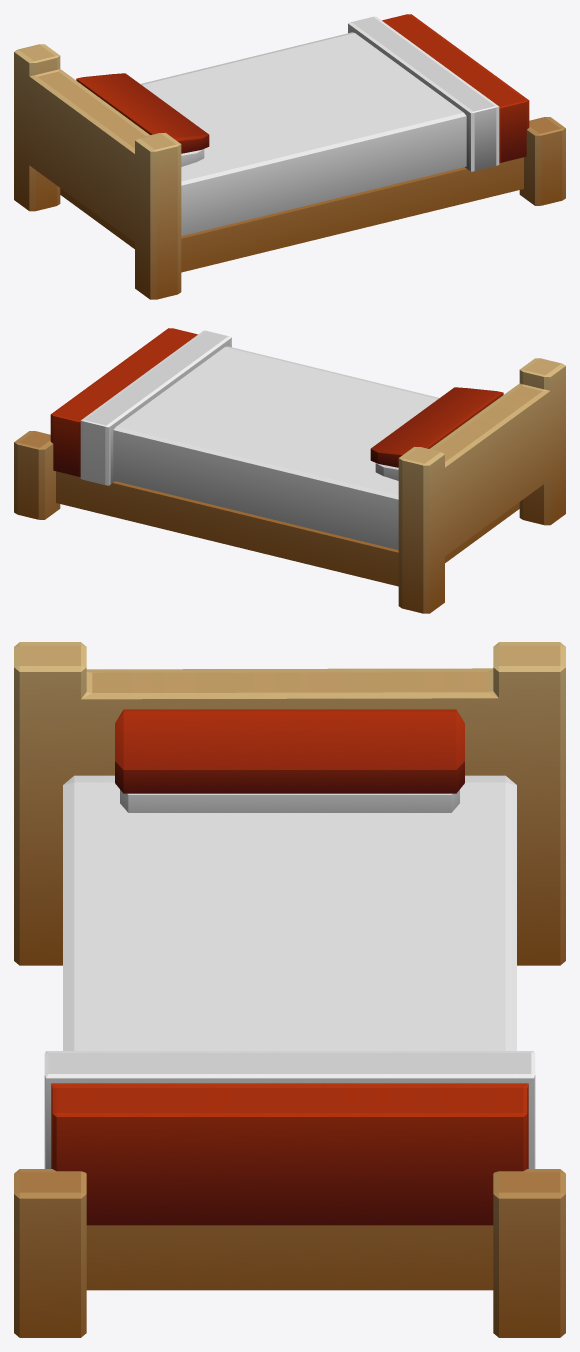
File: CoverUp.fbx
3 views of the same model, one above another, from view 1: azimuth 30°, elevation 25°; view 2: azimuth 150°, elevation 25°; view 3: azimuth 270°, elevation 25° (orthographic). The views are drawn at different scales.
Visible parts, largest first — view 1: BedMattress, BedPosts, BedFrame, BedCover, BedPillow1; view 2: BedMattress, BedPosts, BedFrame, BedCover, BedPillow1; view 3: BedMattress, BedPosts, BedCover, BedPillow1, BedFrame, BedPillow2.
Boxes of the visible parts, left/top/right/bottom form: BedMattress: left=140, top=32, right=466, bottom=235; BedPosts: left=14, top=44, right=565, bottom=299; BedFrame: left=60, top=157, right=523, bottom=272; BedCover: left=348, top=14, right=529, bottom=171; BedPillow1: left=76, top=73, right=209, bottom=153; BedMattress: left=113, top=346, right=439, bottom=549; BedPosts: left=14, top=358, right=565, bottom=613; BedFrame: left=56, top=471, right=519, bottom=586; BedCover: left=50, top=328, right=231, bottom=485; BedPillow1: left=370, top=387, right=503, bottom=467; BedMattress: left=63, top=775, right=516, bottom=1050; BedPosts: left=14, top=642, right=565, bottom=1337; BedCover: left=44, top=1051, right=535, bottom=1225; BedPillow1: left=115, top=709, right=464, bottom=793; BedFrame: left=86, top=1225, right=493, bottom=1290; BedPillow2: left=120, top=790, right=459, bottom=812.
Bounding box in the file's own units: 4.19 × 1.44 × 2.43.
1 material, 1 textured.
